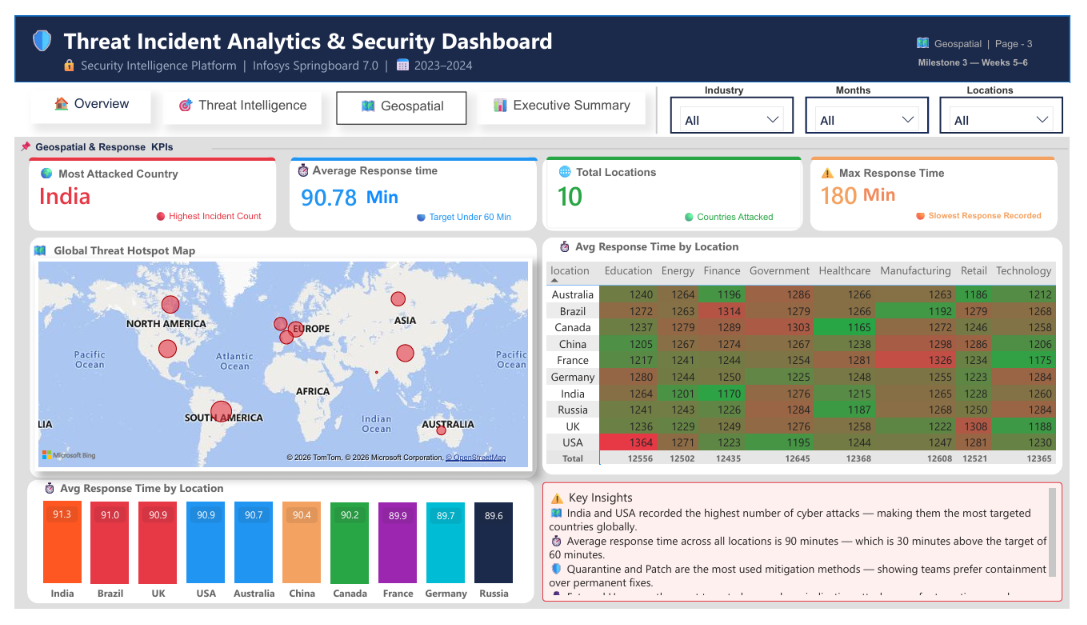

What the dashboard file says about the page in this screenshot:
{"tool":"powerbi","page":{"name":"Geospatial","canvas":[1280,720],"ordinal":2},"visuals":[{"type":"shape","box":[15,562.5,615,150],"z":1000},{"type":"shape","box":[332.5,171.2,300,90],"z":2000},{"type":"cardVisual","fields":{"Data":["Avg(fact_incident.response_time_min)"]},"box":[317.5,155,333,125],"z":3000},{"type":"shape","box":[17.5,268.8,615,292.5],"z":4000},{"type":"shape","box":[0,0,1280,81.2],"z":5000},{"type":"textbox","box":[10,6.2,690,55],"z":6000},{"type":"textbox","box":[51.2,43.8,681.2,37.5],"z":7000},{"type":"textbox","box":[1087,16.9,166.5,36.2],"z":8000},{"type":"textbox","box":[1090.6,41,152,27.7],"z":9000},{"type":"shape","box":[0,80.8,1280,66],"z":10000},{"type":"textbox","box":[18.8,90,146,41],"z":11000},{"type":"textbox","box":[178.6,91.7,193,39.8],"z":12000},{"type":"textbox","box":[389.7,91.7,158,39.8],"z":13000},{"type":"textbox","box":[559.8,91.7,205.1,39.8],"z":14000},{"type":"shape","box":[16.9,171.3,300.4,90],"z":15000},{"type":"shape","box":[640,171.2,316.2,90],"z":16000},{"type":"shape","box":[965,171.2,300,90],"z":17000},{"type":"cardVisual","fields":{"Data":["Min(dim_location.location)"]},"box":[0,155,332.5,120],"z":18000},{"type":"cardVisual","fields":{"Data":["Count(dim_location.location)"]},"box":[627.5,153.8,343.8,121.2],"z":19000},{"type":"cardVisual","fields":{"Data":["Max(fact_incident.response_time_min)"]},"box":[948.8,153.8,330,121.2],"z":20000},{"type":"textbox","box":[23.8,172.5,206.2,38.8],"z":21000},{"type":"textbox","box":[333.8,171.2,235,40],"z":22000},{"type":"textbox","box":[652.5,173.8,185,43.8],"z":23000},{"type":"textbox","box":[971.2,173.8,185,43.8],"z":24000},{"type":"textbox","box":[0,143.6,273.9,37.4],"z":25000},{"type":"shape","box":[238.8,155,1038.8,12.5],"z":26000},{"type":"textbox","box":[165,227.5,147.5,33.8],"z":27000},{"type":"textbox","box":[481.2,228.8,147.5,33.8],"z":28000},{"type":"textbox","box":[806.2,228.8,146.2,33.8],"z":29000},{"type":"textbox","box":[1087,226.8,184.6,38.6],"z":30000},{"type":"textbox","box":[640,566.2,631.2,145],"z":31000},{"type":"textbox","box":[15,268.8,266.2,41.2],"z":32000},{"type":"slicer","fields":{"Values":["dim_time.month"]},"box":[958.5,97.7,150,45],"z":33000},{"type":"slicer","fields":{"Values":["dim_location.location"]},"box":[1122,97.7,150,45],"z":34000},{"type":"slicer","fields":{"Values":["dim_industry.industry"]},"box":[795,97.7,150,45],"z":35000},{"type":"shape","box":[771.2,86.2,15,56.2],"z":36000},{"type":"textbox","box":[832.4,74.8,79.6,29],"z":37000},{"type":"textbox","box":[991.1,74.8,79.6,29],"z":38000},{"type":"textbox","box":[1149.7,74.8,79.6,29],"z":39000},{"type":"map","fields":{"Category":["dim_location.location"],"Size":["CountNonNull(fact_incident.incident_key)"]},"box":[23.8,293.8,603.8,258.8],"z":40000},{"type":"shape","box":[640,268.8,631.2,288],"z":41000},{"type":"columnChart","fields":{"Category":["dim_location.location"],"Y":["Avg(fact_incident.response_time_min)"]},"box":[6.2,566.2,626.2,152.5],"z":42000},{"type":"textbox","box":[652.5,266.2,266.2,42.5],"z":43000},{"type":"pivotTable","fields":{"Rows":["dim_location.location"],"Columns":["dim_industry.industry"],"Values":["CountNonNull(fact_incident.incident_key)"]},"box":[640,293.8,638.8,260],"z":44000},{"type":"textbox","box":[27.5,558.8,266.2,42.5],"z":45000},{"type":"textbox","box":[421,199.1,82,42.2],"z":46000},{"type":"textbox","box":[1024.3,196.6,82,42.2],"z":47000}]}

Visuals, with their boxes in screenshot pixels (x1, y1, x2, y2), scaled from the page's 1280x720 canvas onto the 1087x625 screenshot:
shape: rect(13, 488, 535, 618)
shape: rect(282, 149, 537, 227)
cardVisual - Avg(fact_incident.response_time_min): rect(270, 135, 552, 243)
shape: rect(15, 233, 537, 487)
shape: rect(0, 0, 1086, 70)
textbox: rect(8, 5, 594, 53)
textbox: rect(43, 38, 622, 71)
textbox: rect(923, 15, 1064, 46)
textbox: rect(926, 36, 1055, 60)
shape: rect(0, 70, 1086, 127)
textbox: rect(16, 78, 140, 114)
textbox: rect(152, 80, 316, 114)
textbox: rect(331, 80, 465, 114)
textbox: rect(475, 80, 650, 114)
shape: rect(14, 149, 269, 227)
shape: rect(544, 149, 812, 227)
shape: rect(819, 149, 1074, 227)
cardVisual - Min(dim_location.location): rect(0, 135, 282, 239)
cardVisual - Count(dim_location.location): rect(533, 134, 825, 239)
cardVisual - Max(fact_incident.response_time_min): rect(806, 134, 1086, 239)
textbox: rect(20, 150, 195, 183)
textbox: rect(283, 149, 483, 183)
textbox: rect(554, 151, 711, 189)
textbox: rect(825, 151, 982, 189)
textbox: rect(0, 125, 233, 157)
shape: rect(203, 135, 1085, 145)
textbox: rect(140, 197, 265, 227)
textbox: rect(409, 199, 534, 228)
textbox: rect(685, 199, 809, 228)
textbox: rect(923, 197, 1080, 230)
textbox: rect(544, 491, 1080, 617)
textbox: rect(13, 233, 239, 269)
slicer - dim_time.month: rect(814, 85, 941, 124)
slicer - dim_location.location: rect(953, 85, 1080, 124)
slicer - dim_industry.industry: rect(675, 85, 803, 124)
shape: rect(655, 75, 668, 124)
textbox: rect(707, 65, 774, 90)
textbox: rect(842, 65, 909, 90)
textbox: rect(976, 65, 1044, 90)
map - dim_location.location x CountNonNull(fact_incident.incident_key): rect(20, 255, 533, 480)
shape: rect(544, 233, 1080, 483)
columnChart - dim_location.location x Avg(fact_incident.response_time_min): rect(5, 491, 537, 624)
textbox: rect(554, 231, 780, 268)
pivotTable - dim_location.location x dim_industry.industry: rect(544, 255, 1086, 481)
textbox: rect(23, 485, 249, 522)
textbox: rect(358, 173, 427, 209)
textbox: rect(870, 171, 939, 207)
